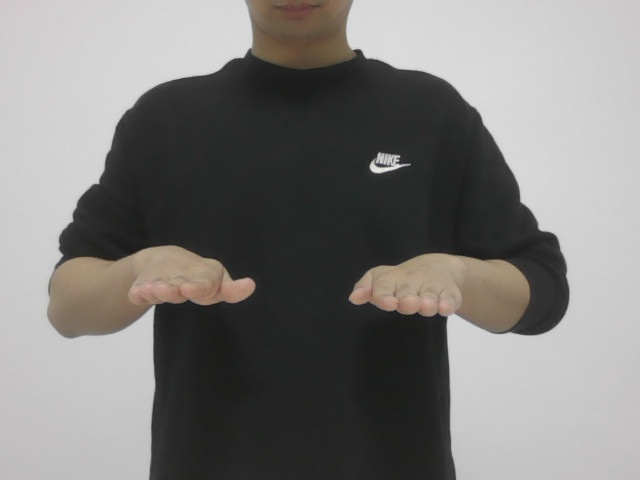flat: (124, 234, 469, 326)
